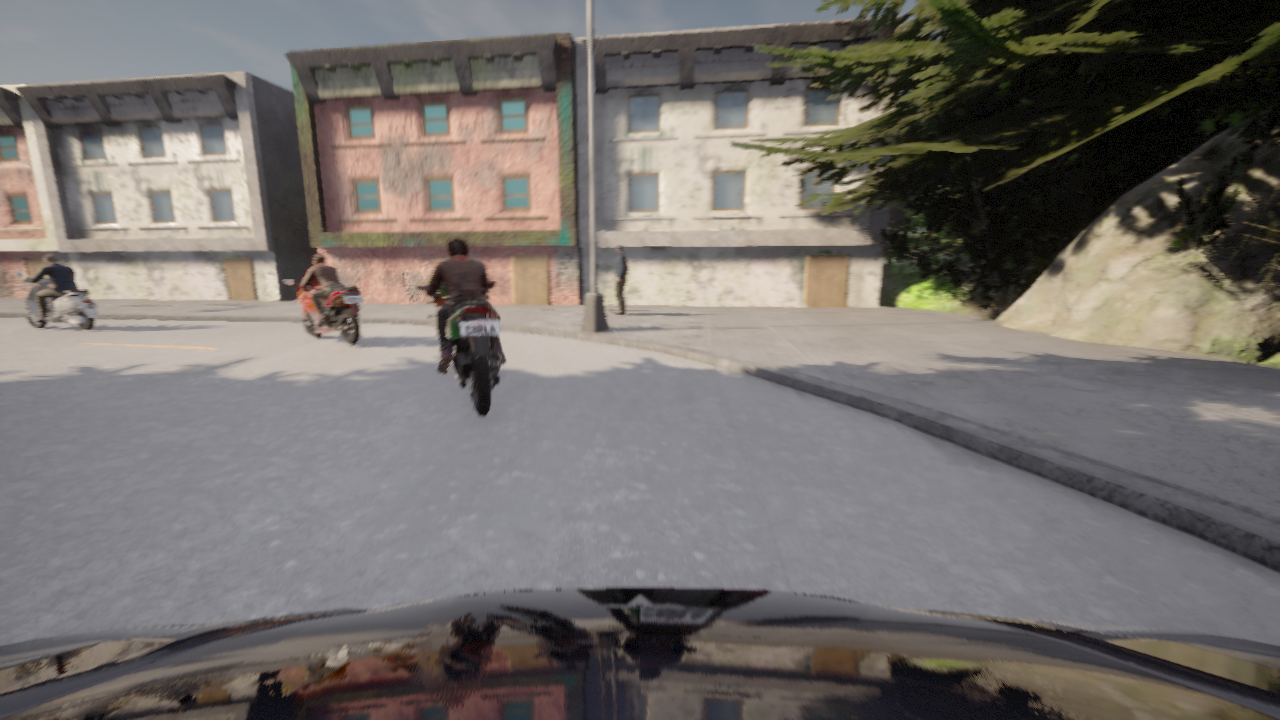cyclist: (0, 588, 1279, 719), (414, 282, 501, 417), (283, 277, 363, 345), (16, 271, 98, 330)
pedestrian: (613, 244, 627, 315)
